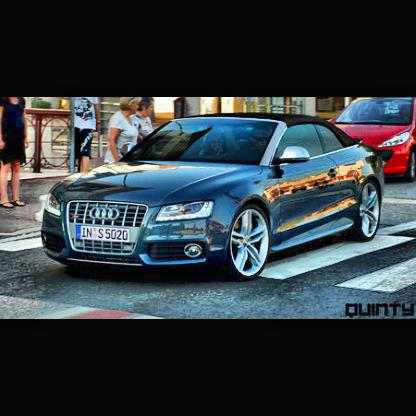Audi S5 Convertible 2012: (45, 111, 386, 279)
